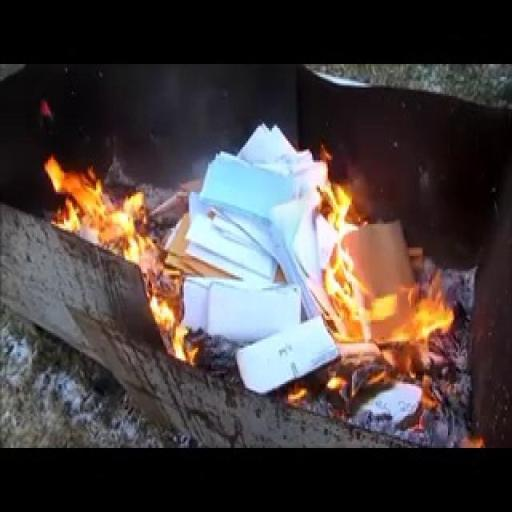smoke: (302, 136, 444, 370), (39, 96, 158, 265)
